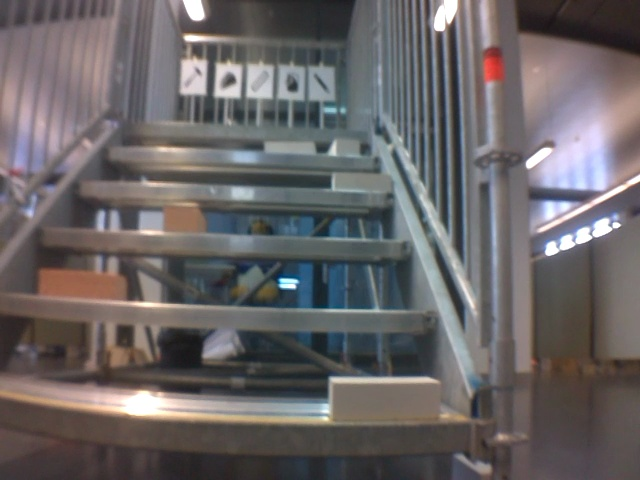brick: (329, 376, 439, 421), (40, 269, 126, 299), (332, 173, 391, 191), (163, 207, 205, 232), (264, 141, 315, 153), (328, 139, 359, 154)
bucket: (283, 71, 301, 95)
edge: (1, 396, 470, 452), (1, 293, 438, 332), (36, 227, 414, 259), (77, 181, 396, 206), (105, 147, 378, 169), (126, 123, 369, 140)
hammer: (182, 64, 204, 91)
pencil: (312, 71, 335, 96)
ruler: (248, 66, 270, 94)
stairs: (1, 1, 531, 477)
taco: (218, 69, 238, 92)
